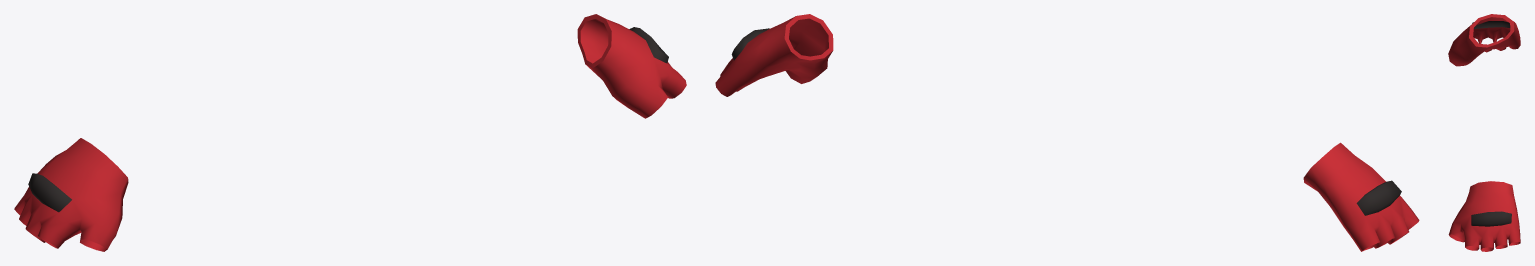
The model's file is Gloves_05.glb.
The picture shows the model from 3 angles, left to right: view 1: azimuth 30°, elevation 25°; view 2: azimuth 150°, elevation 25°; view 3: azimuth 270°, elevation 25°; orthographic projection. The views are drawn at different scales.
Visible parts, largest first — view 1: Gloves_05; view 2: Gloves_05; view 3: Gloves_05.
Part boxes in pixels (x1,y1,x2,y2): Gloves_05: (14,14,686,251); Gloves_05: (715,14,1419,251); Gloves_05: (1448,14,1520,251).
Size of the model in its own units: 0.8035 by 0.1025 by 0.1174.
1 material, 1 textured.
